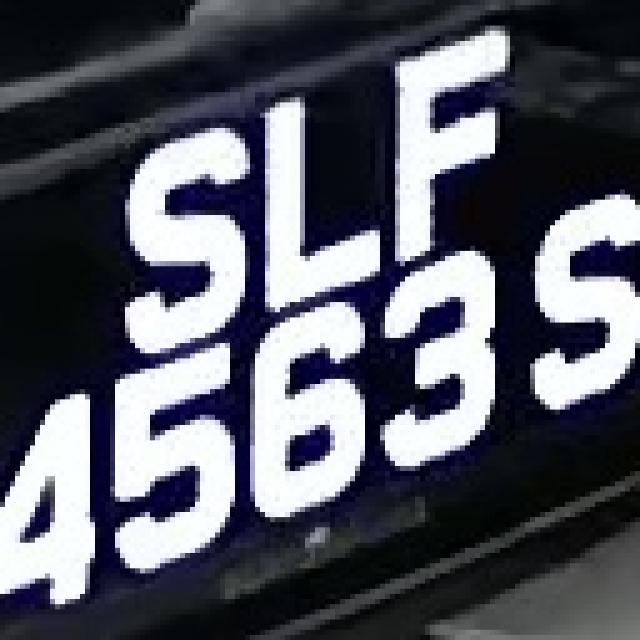3: (360, 236, 505, 482)
4: (0, 358, 115, 614)
5: (80, 338, 255, 573)
6: (240, 282, 380, 532)
F: (365, 20, 515, 266)
L: (260, 87, 380, 323)
S: (100, 128, 255, 348), (515, 169, 640, 420)
